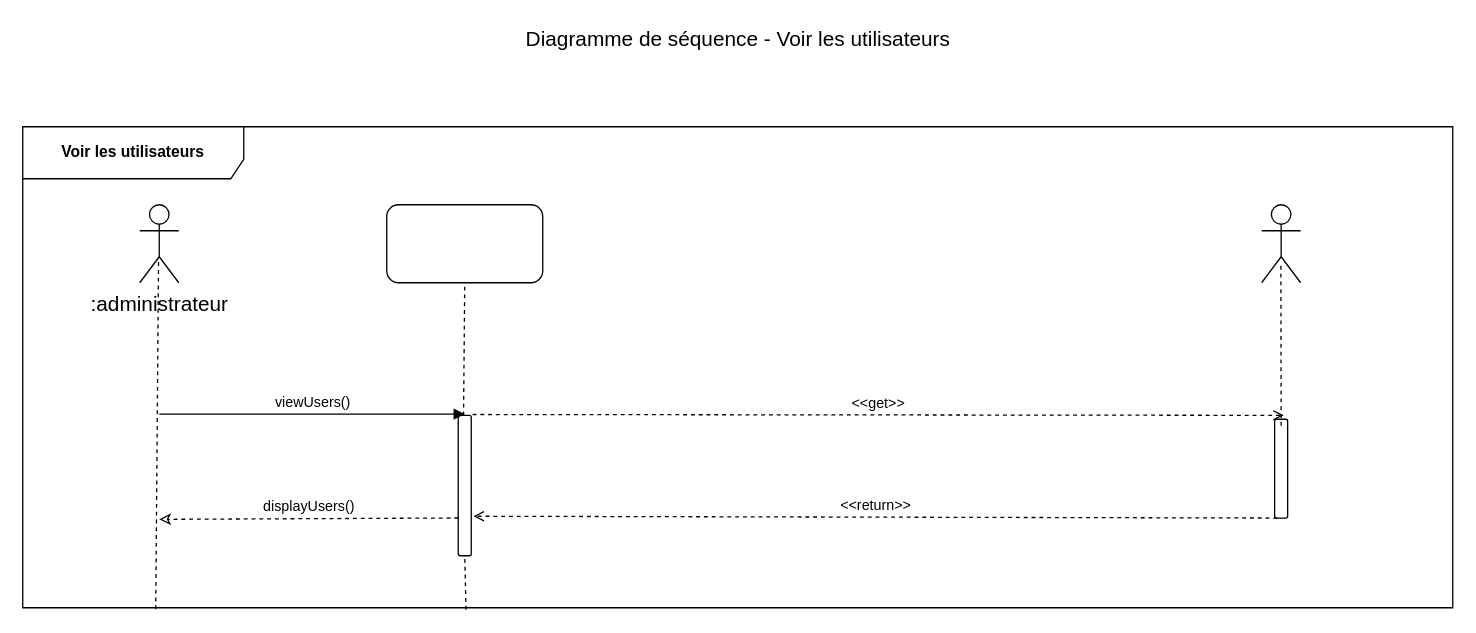
Image size: 1476x633. Some labels were removed from this diagram. The centre of each missing label's shape, as x and y in pixels:
":bdd" goes at point (1280, 243).
":system" goes at point (464, 243).
